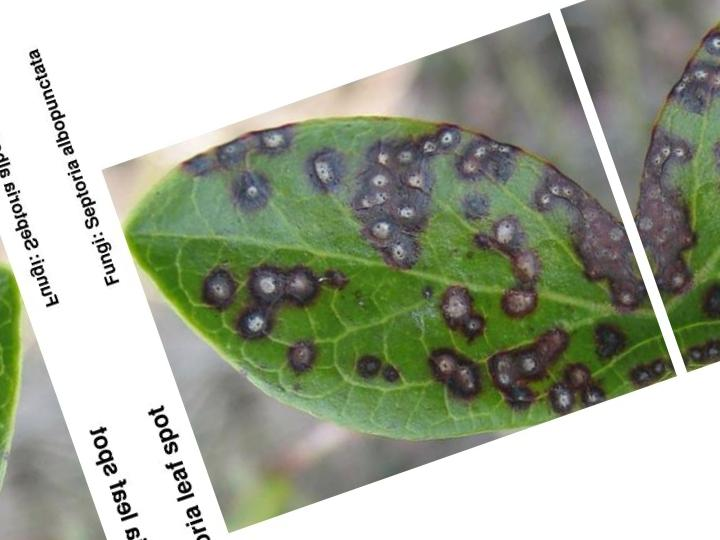Tomato Septoria leaf spot: (109, 26, 668, 530)
